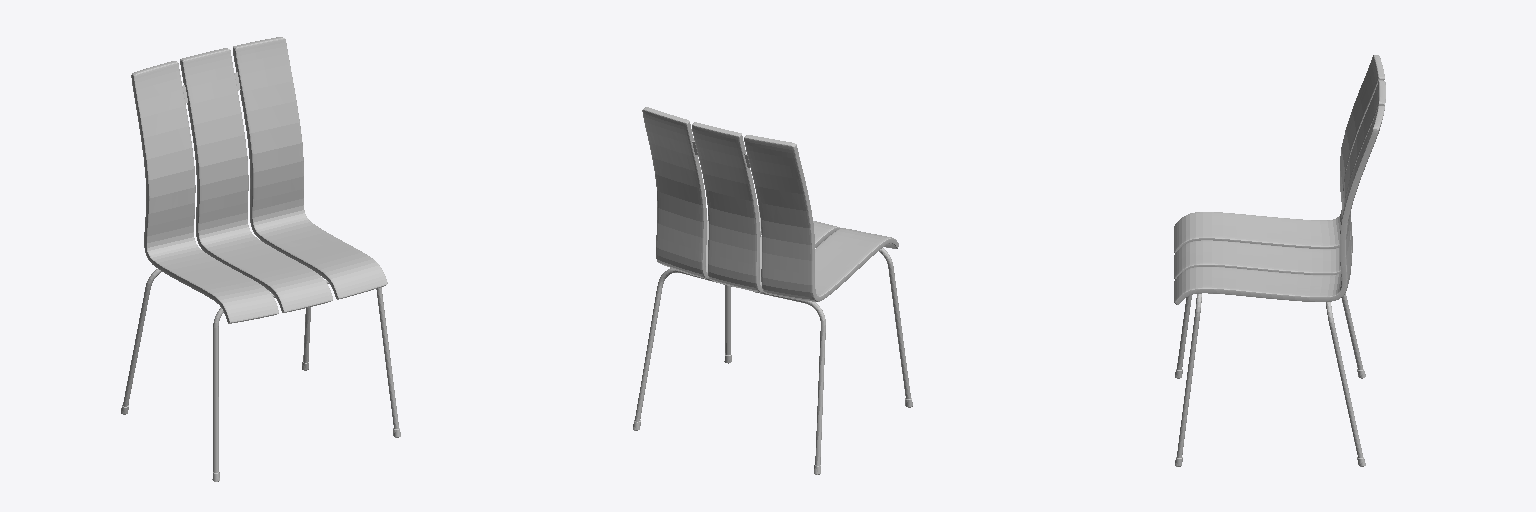
Rendered from sedia.obj.
The picture shows the model from 3 angles: view 1: azimuth 30°, elevation 25°; view 2: azimuth 150°, elevation 25°; view 3: azimuth 270°, elevation 25°; orthographic projection.
Parts seen in each view (by area): view 1: obj_04, obj_01; view 2: obj_04, obj_01; view 3: obj_04, obj_01.
Part boxes in pixels (x1,y1,x2,y2): obj_04: (131,37,387,323); obj_01: (123,269,398,472); obj_04: (642,107,898,301); obj_01: (635,248,910,465); obj_04: (1174,55,1385,304); obj_01: (1177,293,1362,457).
Size of the model in its own units: 561 by 945 by 549.